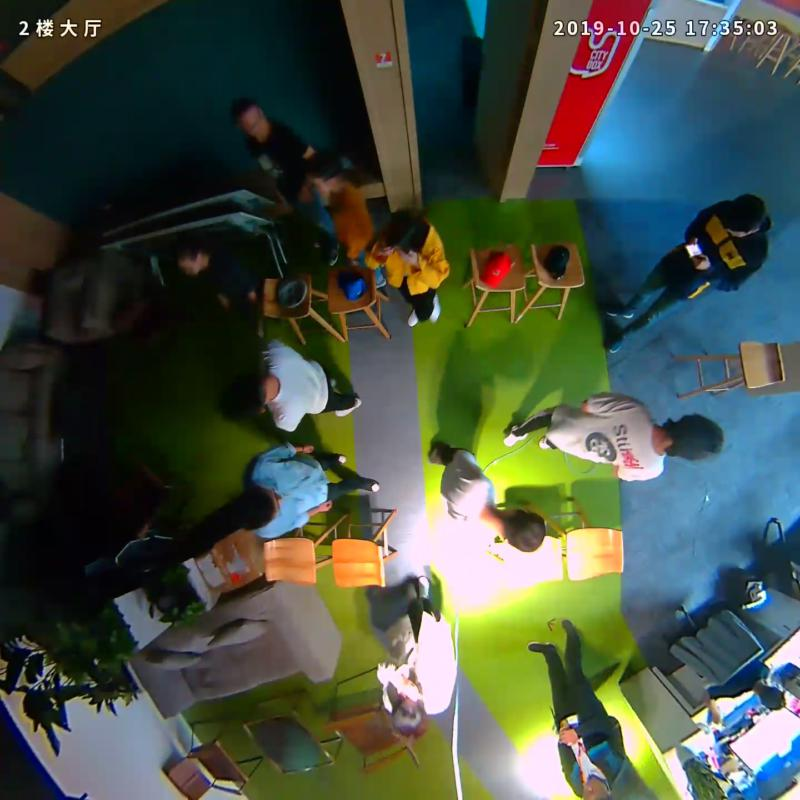head: (665, 414, 725, 462), (234, 483, 284, 530), (386, 207, 429, 259), (500, 507, 546, 554), (222, 373, 272, 415), (392, 683, 428, 737), (724, 194, 767, 237), (231, 97, 268, 141), (304, 150, 342, 192), (176, 235, 210, 278), (579, 773, 614, 800)
